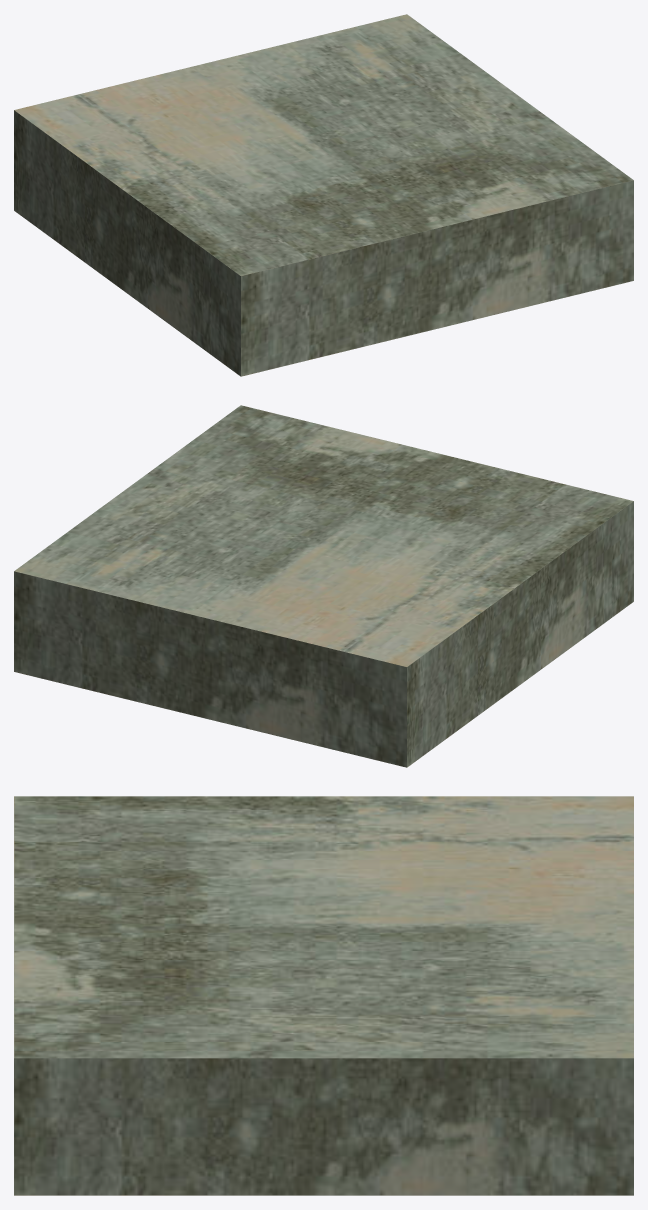
Rendered from floor_concrete.glb.
3 renders of one model, top to bottom at view 1: azimuth 30°, elevation 25°; view 2: azimuth 150°, elevation 25°; view 3: azimuth 270°, elevation 25°, orthographic. The views are drawn at different scales.
Parts seen in each view (by area): view 1: floor; view 2: floor; view 3: floor.
Part boxes in pixels (bbox=[...]): floor: bbox=[14, 14, 633, 376]; floor: bbox=[14, 405, 633, 767]; floor: bbox=[14, 796, 633, 1195].
Bounding box in the file's own units: 0.9 × 0.22 × 0.9.
1 material, 1 textured.
